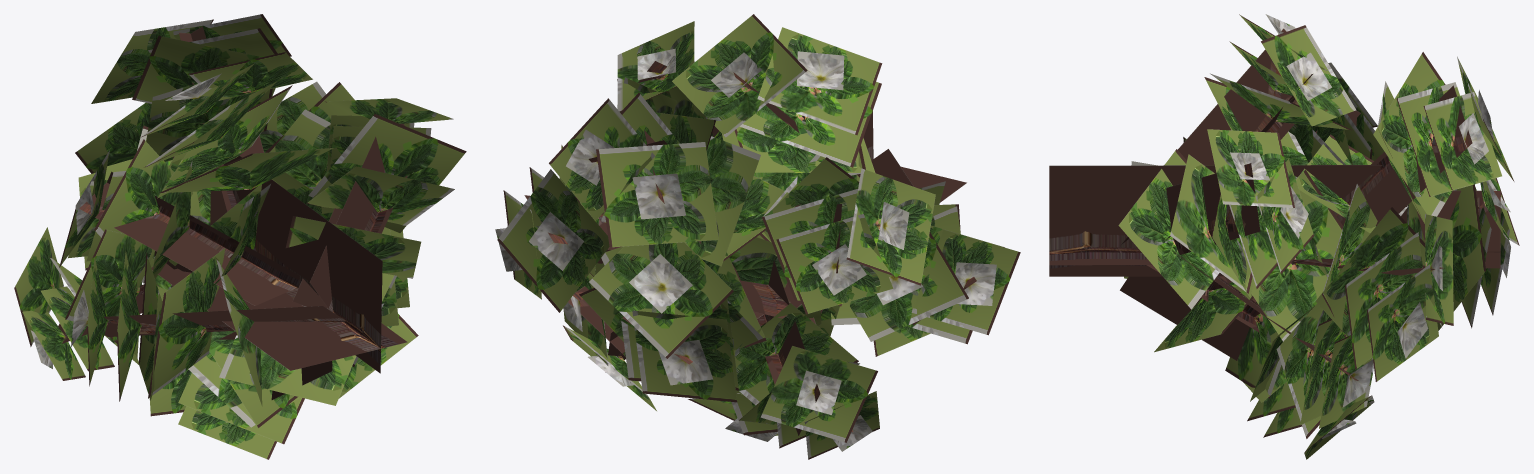
File: Bush5.fbx
The picture shows the model from 3 angles, left to right: view 1: azimuth 30°, elevation 25°; view 2: azimuth 150°, elevation 25°; view 3: azimuth 270°, elevation 25°; orthographic projection. The views are drawn at different scales.
Visible parts, largest first — view 1: Bush7; view 2: Bush7; view 3: Bush7.
Boxes of the visible parts, x1=… form: Bush7: x1=14, y1=14, x2=466, y2=459; Bush7: x1=495, y1=14, x2=1020, y2=459; Bush7: x1=1049, y1=14, x2=1519, y2=459.
Bounding box in the file's own units: 25.62 × 23.76 × 25.1.
